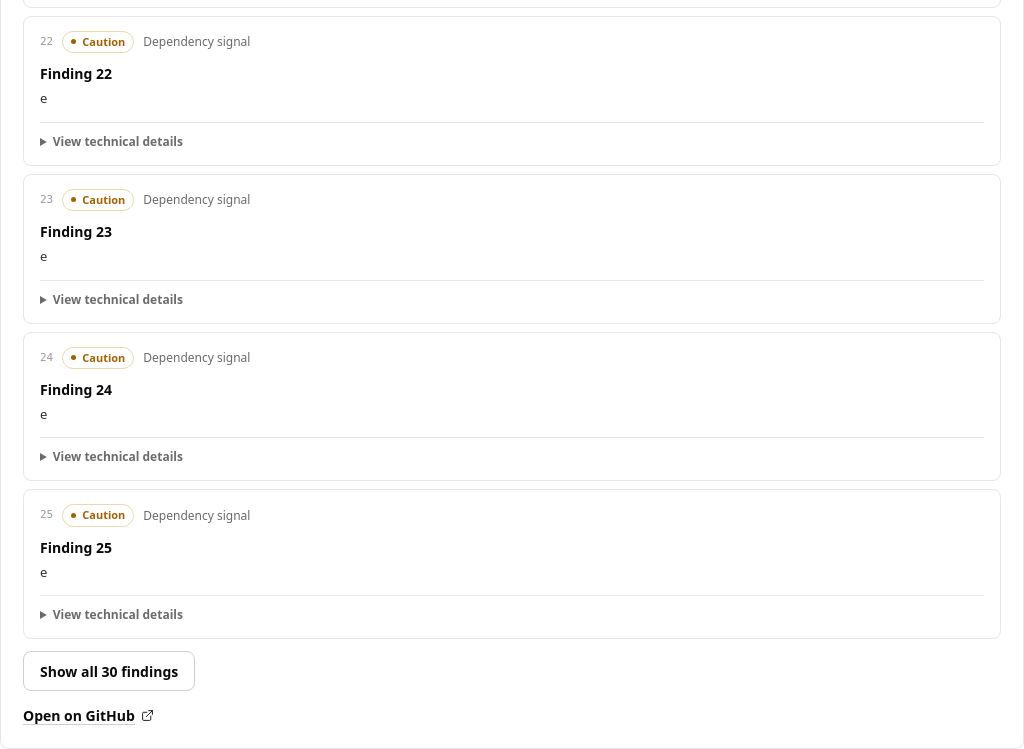
it: long reports show the first findings and expand on request
(page scrolled)
Expected: the heading "Finding 25" is shown, [40, 538, 112, 557]
Step 1. Click the button "Show all 30 findings" → (109, 671), box [23, 651, 195, 691]
(page scrolled)
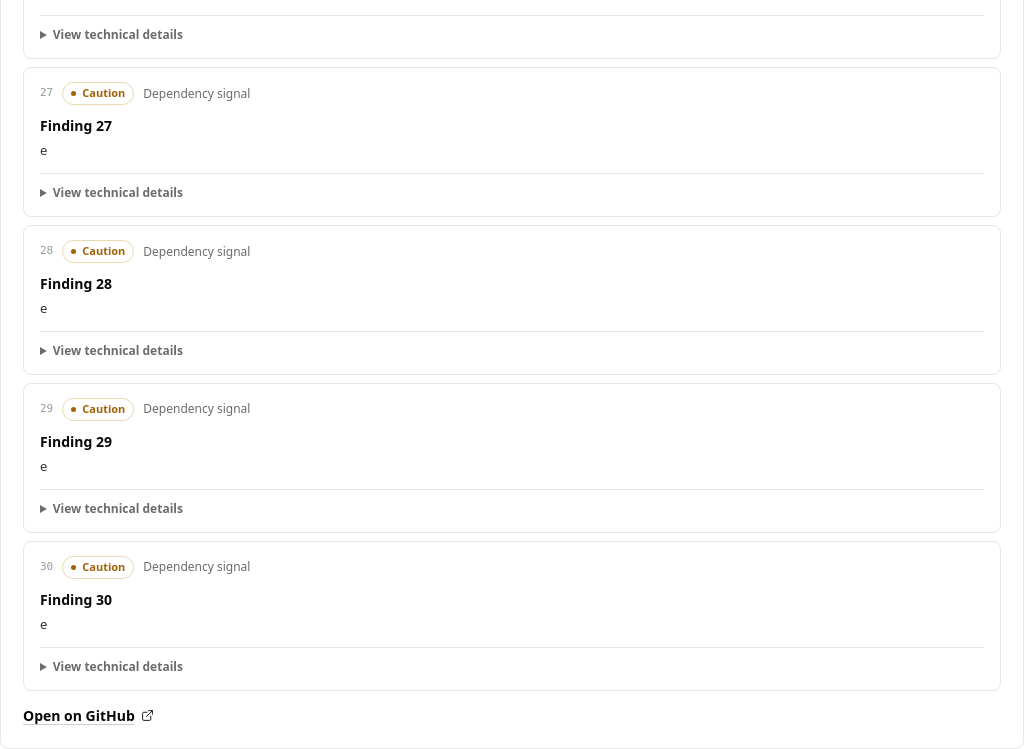
Expected: the heading "Finding 30" is shown, [40, 590, 112, 609]
